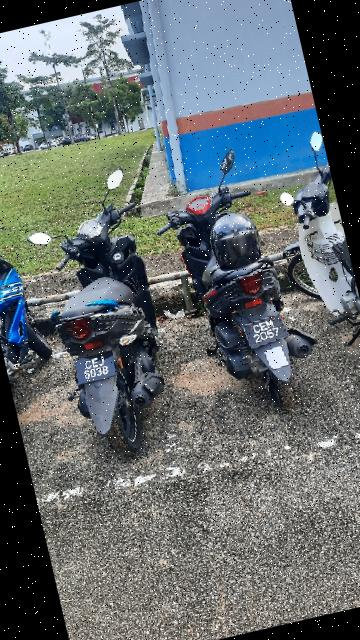License_Plate: (242, 311, 295, 352), (74, 350, 120, 386)
motorcycle: (143, 137, 336, 435), (13, 163, 197, 465)
